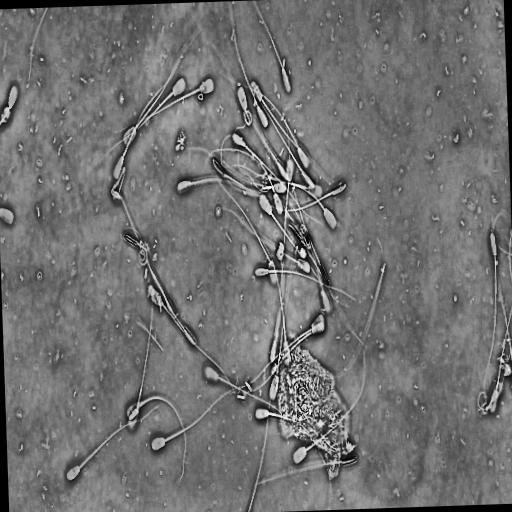coiled-tail: (138, 243, 147, 265), (243, 108, 252, 126)
dirt-particles: (274, 338, 360, 480), (174, 129, 186, 154), (275, 242, 285, 263)
loose-head: (0, 203, 16, 227)
loose-tail: (246, 373, 277, 512)
normal: (257, 191, 352, 329), (112, 29, 197, 178), (216, 205, 292, 366), (290, 338, 367, 467), (102, 76, 215, 158), (232, 131, 325, 227), (143, 382, 248, 456), (228, 78, 309, 171), (229, 162, 337, 231), (65, 403, 161, 480), (201, 360, 297, 437), (243, 311, 329, 392), (103, 75, 187, 157), (126, 394, 188, 485), (249, 80, 313, 163), (230, 7, 268, 129), (126, 281, 153, 430), (251, 0, 292, 96), (253, 267, 356, 303), (480, 229, 498, 392), (176, 175, 279, 203), (279, 157, 294, 297), (123, 229, 150, 269), (237, 85, 253, 129)
proximal-droplet: (139, 401, 143, 406)
